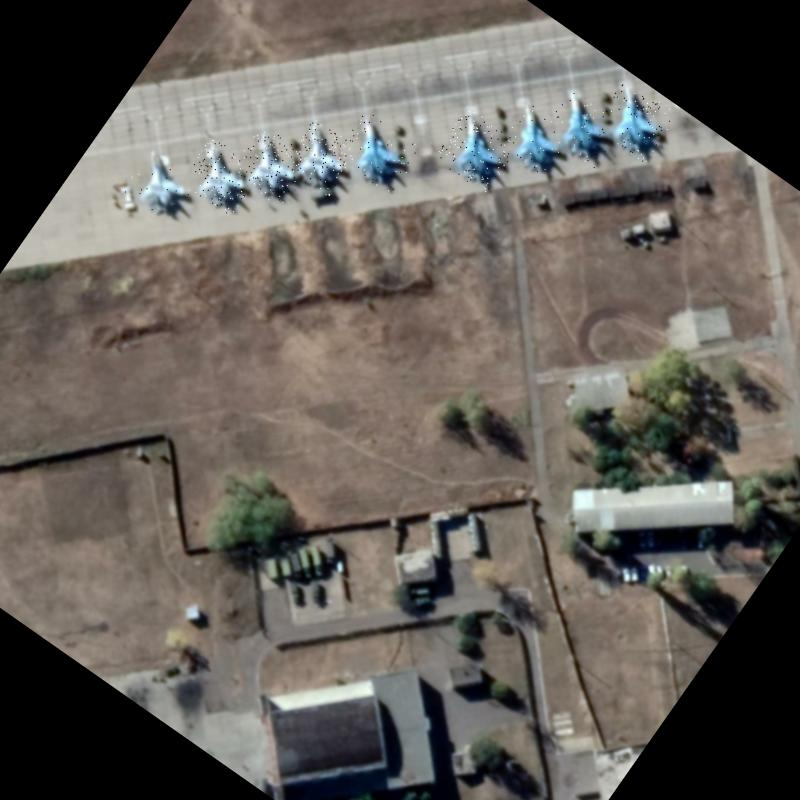A1: (228, 124, 314, 208), (180, 136, 262, 217), (281, 118, 361, 198), (121, 144, 201, 224)
A19: (431, 106, 522, 196), (332, 109, 422, 197), (592, 78, 680, 164), (542, 86, 628, 169), (493, 100, 574, 179)
